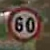limite 60: (7, 5, 41, 41)
